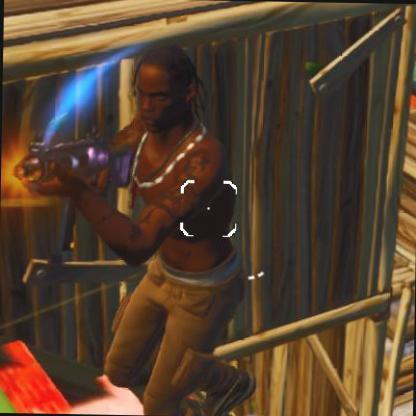person: (120, 54, 261, 399)
